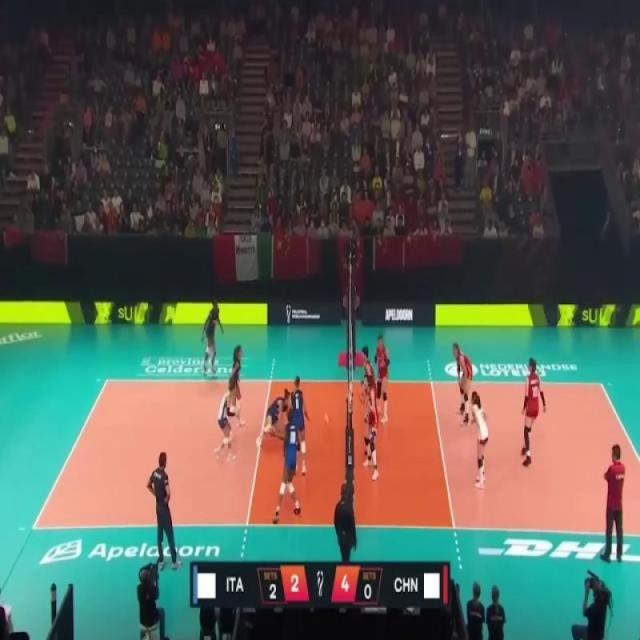volleyball: (324, 413, 331, 427)
